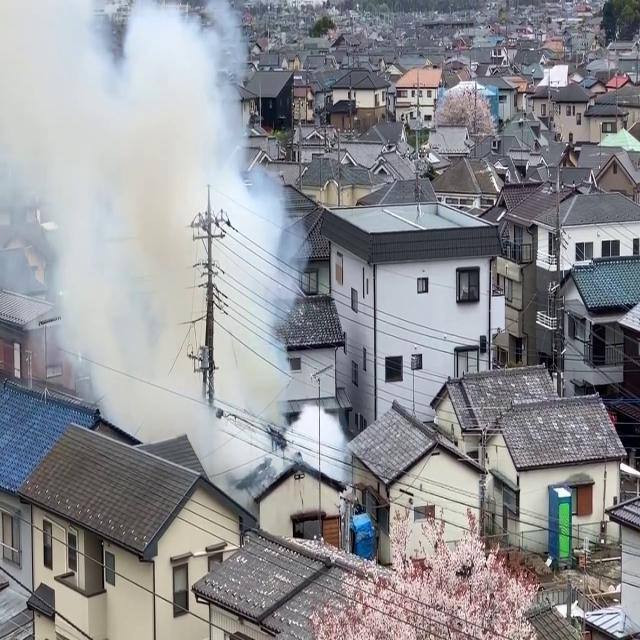Smoke: (0, 0, 350, 465)
